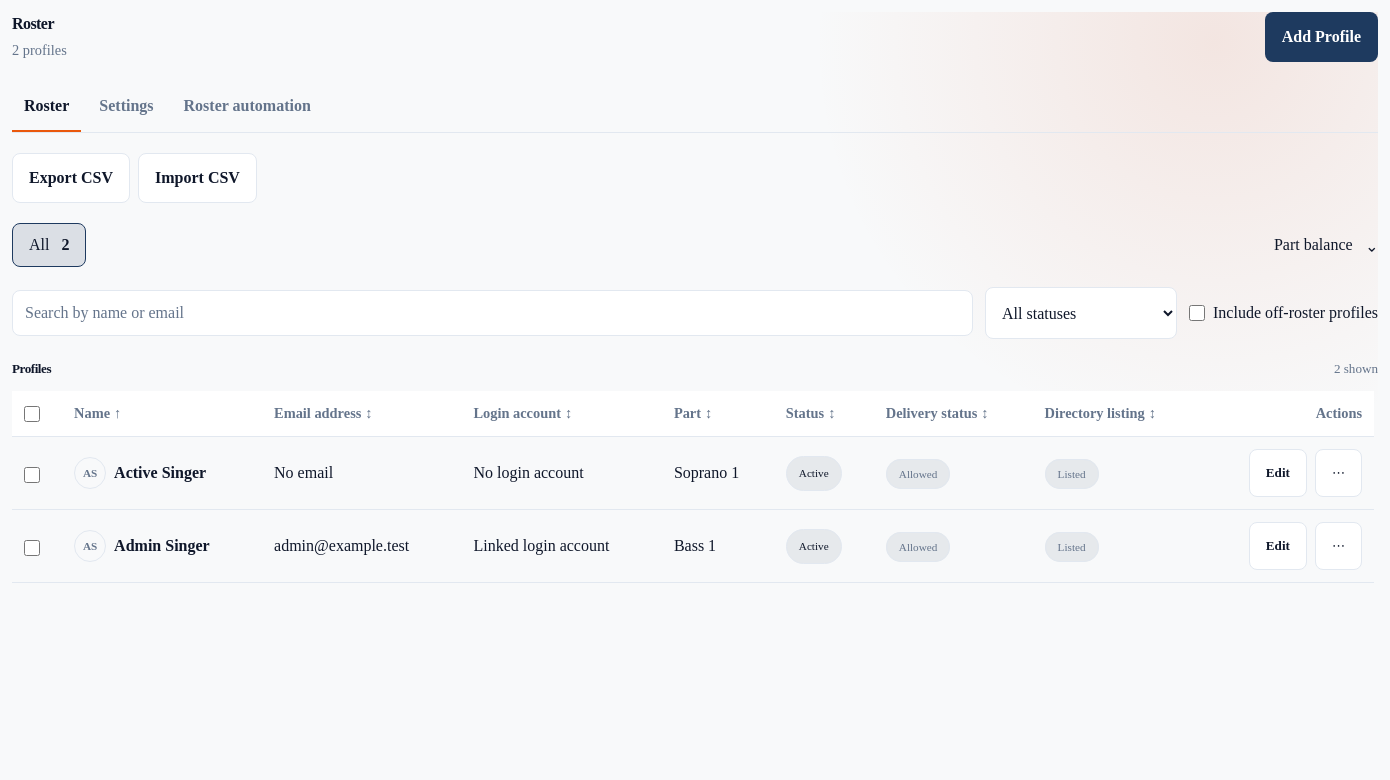
it: RosterPage Safe Profile Removal (#169) › does not offer Delete or Impersonate for administrator profiles
expect the heading "Profiles" is shown: met, box [12,359,51,379]
Click the button named "More actions for Admin Singer" at coordinates (1338, 546), box [1315,522,1362,570]
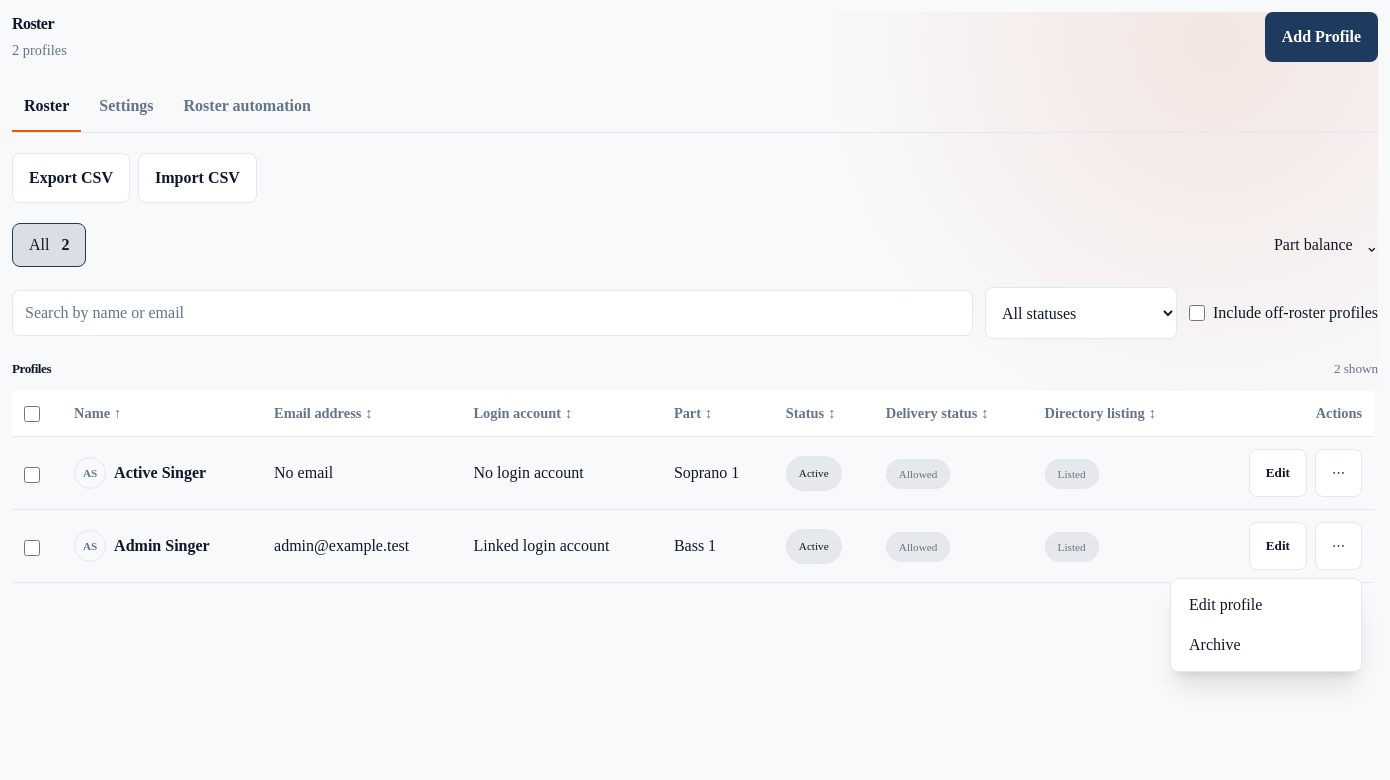
expect the menu item "Archive" is shown: met, box [1177,625,1355,665]
